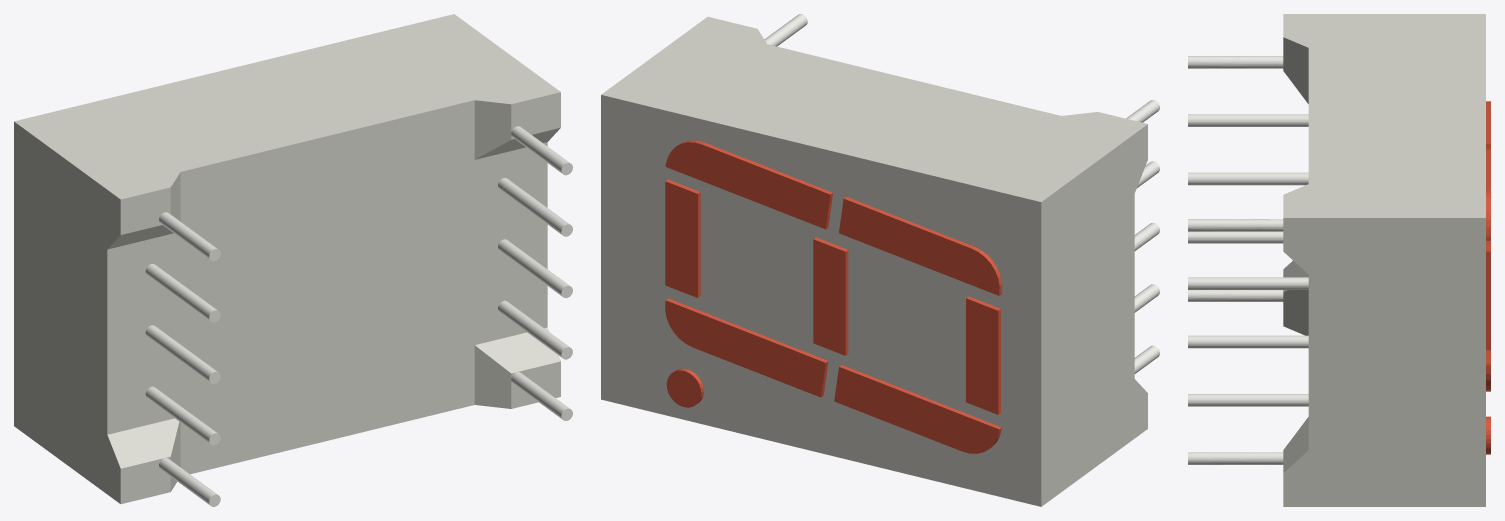
Rendered from 7SegmentLED_LTS6760_LTS6780.glb.
3 renders of one model, left to right at view 1: azimuth 30°, elevation 25°; view 2: azimuth 150°, elevation 25°; view 3: azimuth 270°, elevation 25°, orthographic. The views are drawn at different scales.
Visible parts, largest first — view 1: Shape_IndexedFaceSet.017, Shape_IndexedFaceSet.006, Shape_IndexedFaceSet.014, Shape_IndexedFaceSet.013, Shape_IndexedFaceSet.025, Shape_IndexedFaceSet.064, Shape_IndexedFaceSet.008, Shape_IndexedFaceSet.065, Shape_IndexedFaceSet.011, Shape_IndexedFaceSet.007, Shape_IndexedFaceSet.021, Shape_IndexedFaceSet.016 (+14 smaller); view 2: Shape_IndexedFaceSet.012, Shape_IndexedFaceSet.006, Shape_IndexedFaceSet.014, Shape_IndexedFaceSet.073, Shape_IndexedFaceSet.076, Shape_IndexedFaceSet.074, Shape_IndexedFaceSet.078, Shape_IndexedFaceSet.077, Shape_IndexedFaceSet.079, Shape_IndexedFaceSet.075, Shape_IndexedFaceSet.072, Shape_IndexedFaceSet.001; view 3: Shape_IndexedFaceSet.005, Shape_IndexedFaceSet.006, Shape_IndexedFaceSet.019, Shape_IndexedFaceSet.081, Shape_IndexedFaceSet.018, Shape_IndexedFaceSet.020, Shape_IndexedFaceSet.080, Shape_IndexedFaceSet.001, Shape_IndexedFaceSet.022, Shape_IndexedFaceSet.066, Shape_IndexedFaceSet.082, Shape_IndexedFaceSet.015 (+4 smaller).
Boxes of the visible parts, bbox=[...] form: Shape_IndexedFaceSet.017: bbox=[180, 160, 474, 413]; Shape_IndexedFaceSet.006: bbox=[14, 14, 560, 199]; Shape_IndexedFaceSet.014: bbox=[14, 121, 120, 503]; Shape_IndexedFaceSet.013: bbox=[180, 100, 474, 228]; Shape_IndexedFaceSet.025: bbox=[180, 345, 474, 474]; Shape_IndexedFaceSet.064: bbox=[107, 233, 180, 434]; Shape_IndexedFaceSet.008: bbox=[474, 142, 547, 344]; Shape_IndexedFaceSet.065: bbox=[107, 418, 179, 468]; Shape_IndexedFaceSet.011: bbox=[475, 327, 560, 373]; Shape_IndexedFaceSet.007: bbox=[474, 100, 511, 159]; Shape_IndexedFaceSet.021: bbox=[474, 345, 511, 408]; Shape_IndexedFaceSet.016: bbox=[120, 187, 170, 234]; Shape_IndexedFaceSet.012: bbox=[601, 95, 1041, 506]; Shape_IndexedFaceSet.006: bbox=[601, 16, 1147, 201]; Shape_IndexedFaceSet.014: bbox=[1041, 124, 1147, 506]; Shape_IndexedFaceSet.073: bbox=[665, 300, 825, 397]; Shape_IndexedFaceSet.076: bbox=[839, 199, 999, 295]; Shape_IndexedFaceSet.074: bbox=[665, 142, 830, 229]; Shape_IndexedFaceSet.078: bbox=[834, 367, 999, 453]; Shape_IndexedFaceSet.077: bbox=[813, 239, 845, 355]; Shape_IndexedFaceSet.079: bbox=[966, 298, 998, 414]; Shape_IndexedFaceSet.075: bbox=[665, 181, 697, 297]; Shape_IndexedFaceSet.072: bbox=[666, 370, 701, 407]; Shape_IndexedFaceSet.001: bbox=[764, 14, 807, 46]; Shape_IndexedFaceSet.005: bbox=[1283, 218, 1485, 506]; Shape_IndexedFaceSet.006: bbox=[1283, 14, 1485, 217]; Shape_IndexedFaceSet.019: bbox=[1188, 335, 1308, 348]; Shape_IndexedFaceSet.081: bbox=[1188, 172, 1308, 185]; Shape_IndexedFaceSet.018: bbox=[1188, 277, 1308, 289]; Shape_IndexedFaceSet.020: bbox=[1188, 394, 1308, 406]; Shape_IndexedFaceSet.080: bbox=[1188, 114, 1308, 126]; Shape_IndexedFaceSet.001: bbox=[1188, 219, 1283, 231]; Shape_IndexedFaceSet.022: bbox=[1188, 452, 1283, 464]; Shape_IndexedFaceSet.066: bbox=[1188, 56, 1283, 68]; Shape_IndexedFaceSet.082: bbox=[1188, 231, 1283, 243]; Shape_IndexedFaceSet.015: bbox=[1283, 37, 1308, 103].
Size of the model in its own units: 7.5 by 4.96 by 4.71.
